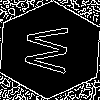W: (25, 25, 79, 75)
